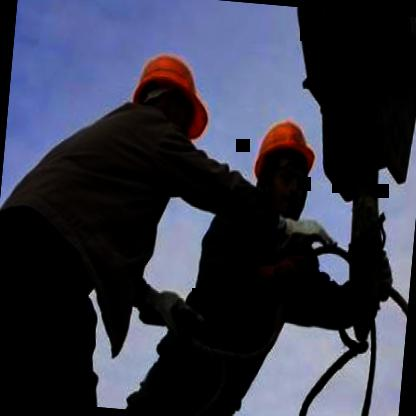helmet: (118, 40, 214, 154), (248, 102, 325, 225)
